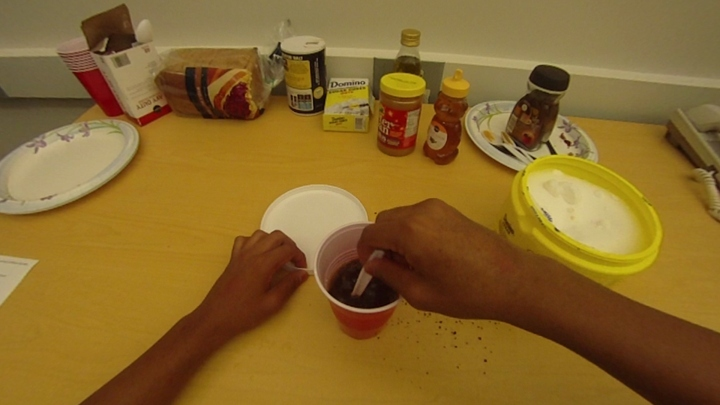hand: (355, 198, 516, 320), (212, 227, 306, 332)
